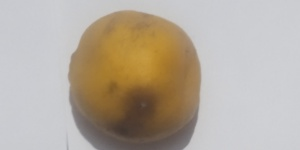BAD: (66, 10, 200, 145)
